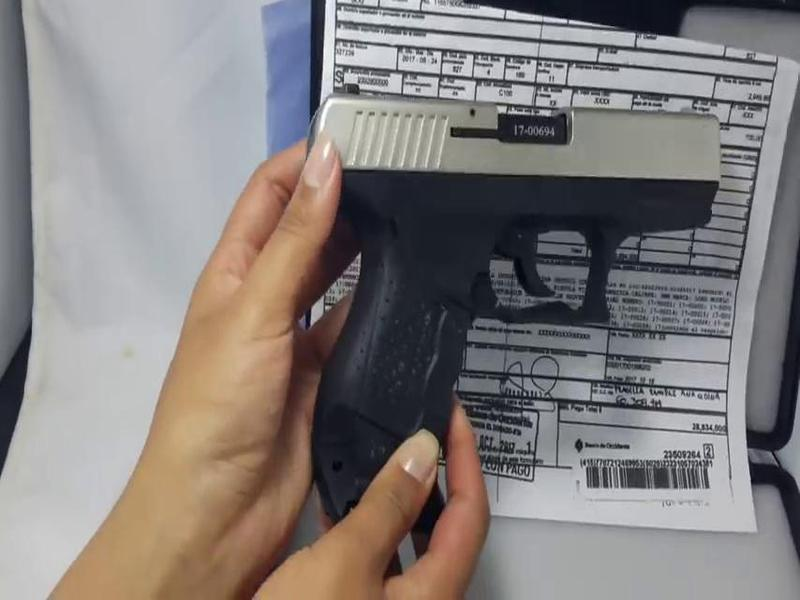Pistola: (276, 68, 736, 547)
